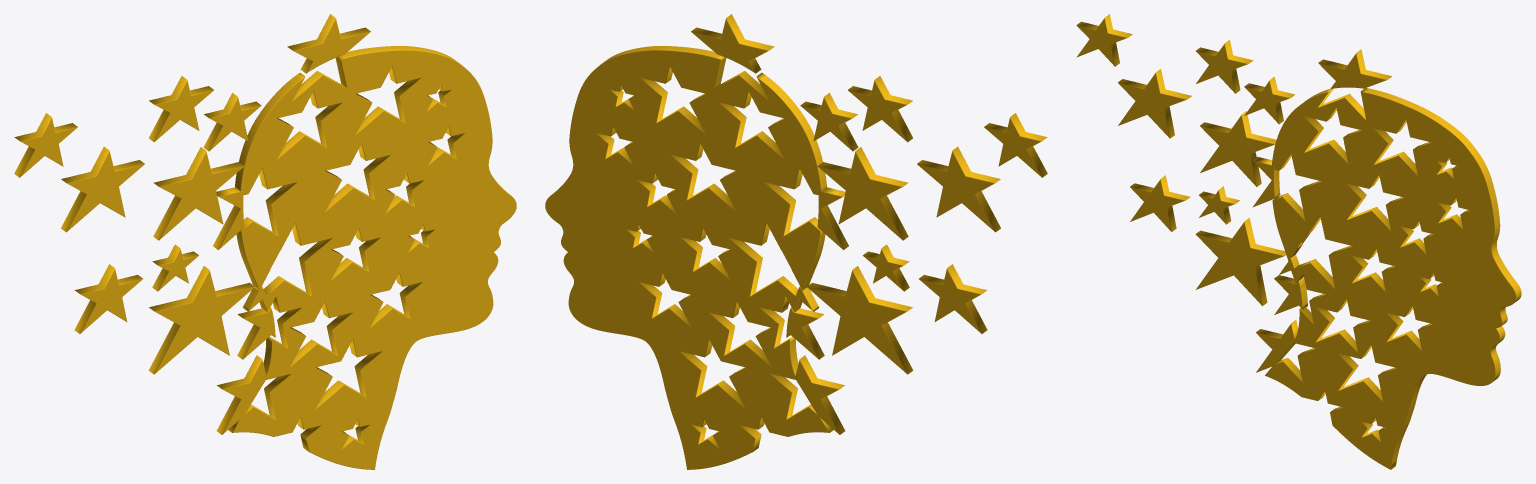
The model's file is gtpk.glb.
3 renders of one model, left to right at view 1: azimuth 30°, elevation 25°; view 2: azimuth 150°, elevation 25°; view 3: azimuth 330°, elevation 25°, orthographic. The views are drawn at different scales.
Visible parts, largest first — view 1: Curve.014, Curve.015, Curve.027, Curve.018, Curve.016, Curve.022, Curve.020, Curve.019, Curve.025, Curve.021, Curve.024, Curve.023 (+1 smaller); view 2: Curve.014, Curve.015, Curve.027, Curve.018, Curve.016, Curve.022, Curve.020, Curve.019, Curve.025, Curve.021, Curve.024, Curve.023 (+1 smaller); view 3: Curve.014, Curve.015, Curve.027, Curve.018, Curve.016, Curve.022, Curve.020, Curve.019, Curve.021, Curve.025, Curve.024, Curve.017 (+1 smaller).
Part boxes in pixels (x1=…): Curve.014: x1=228, y1=46, x2=516, y2=469; Curve.015: x1=148, y1=266, x2=254, y2=374; Curve.027: x1=153, y1=147, x2=244, y2=240; Curve.018: x1=61, y1=146, x2=144, y2=232; Curve.016: x1=74, y1=264, x2=142, y2=333; Curve.022: x1=287, y1=14, x2=370, y2=73; Curve.020: x1=149, y1=76, x2=213, y2=142; Curve.019: x1=14, y1=113, x2=77, y2=177; Curve.025: x1=216, y1=355, x2=266, y2=434; Curve.021: x1=203, y1=93, x2=261, y2=151; Curve.024: x1=237, y1=307, x2=275, y2=359; Curve.023: x1=213, y1=187, x2=244, y2=249; Curve.014: x1=545, y1=46, x2=833, y2=469; Curve.015: x1=807, y1=266, x2=913, y2=374; Curve.027: x1=817, y1=147, x2=908, y2=240; Curve.018: x1=917, y1=146, x2=1000, y2=232; Curve.016: x1=919, y1=264, x2=987, y2=333; Curve.022: x1=691, y1=14, x2=774, y2=73; Curve.020: x1=848, y1=76, x2=912, y2=142; Curve.019: x1=984, y1=113, x2=1047, y2=177; Curve.025: x1=795, y1=355, x2=845, y2=434; Curve.021: x1=800, y1=93, x2=858, y2=151; Curve.024: x1=786, y1=307, x2=824, y2=359; Curve.023: x1=817, y1=187, x2=848, y2=249; Curve.014: x1=1265, y1=88, x2=1521, y2=469; Curve.015: x1=1195, y1=218, x2=1286, y2=305; Curve.027: x1=1200, y1=111, x2=1276, y2=186; Curve.018: x1=1118, y1=69, x2=1191, y2=138; Curve.016: x1=1130, y1=175, x2=1190, y2=231; Curve.022: x1=1318, y1=49, x2=1391, y2=88; Curve.020: x1=1196, y1=40, x2=1253, y2=93; Curve.019: x1=1076, y1=14, x2=1132, y2=66; Curve.021: x1=1244, y1=76, x2=1295, y2=124; Curve.025: x1=1256, y1=320, x2=1298, y2=372; Curve.024: x1=1274, y1=275, x2=1307, y2=314; Curve.017: x1=1199, y1=186, x2=1239, y2=224.
Size of the model in its own units: 9.12 by 8.09 by 0.1917.
